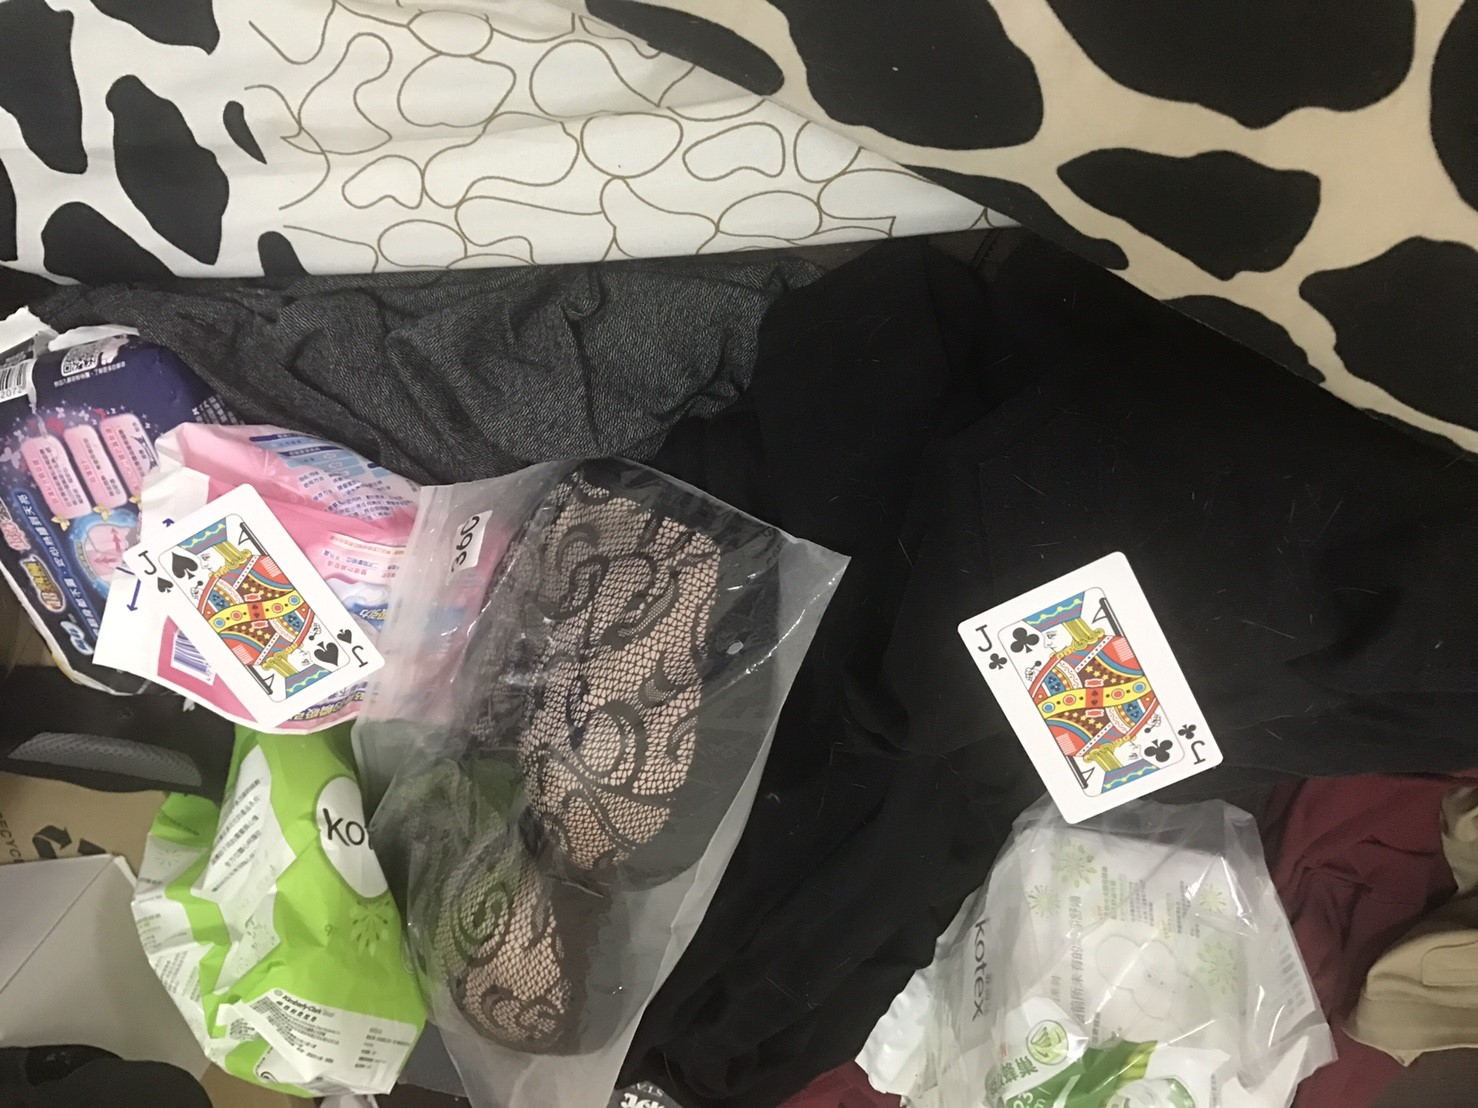clubs: (1010, 623, 1039, 654), (1142, 739, 1175, 766), (986, 652, 1007, 675), (1178, 718, 1198, 743)
spades: (161, 548, 199, 582), (310, 639, 341, 668), (152, 571, 180, 601), (336, 622, 356, 647)
